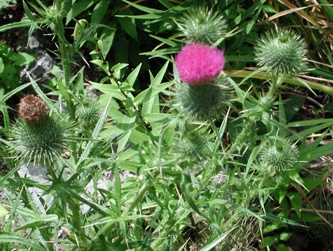thistle: (170, 45, 239, 121)
